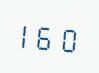one: (18, 17, 37, 51)
six: (39, 19, 58, 53)
zero: (59, 20, 78, 55)
